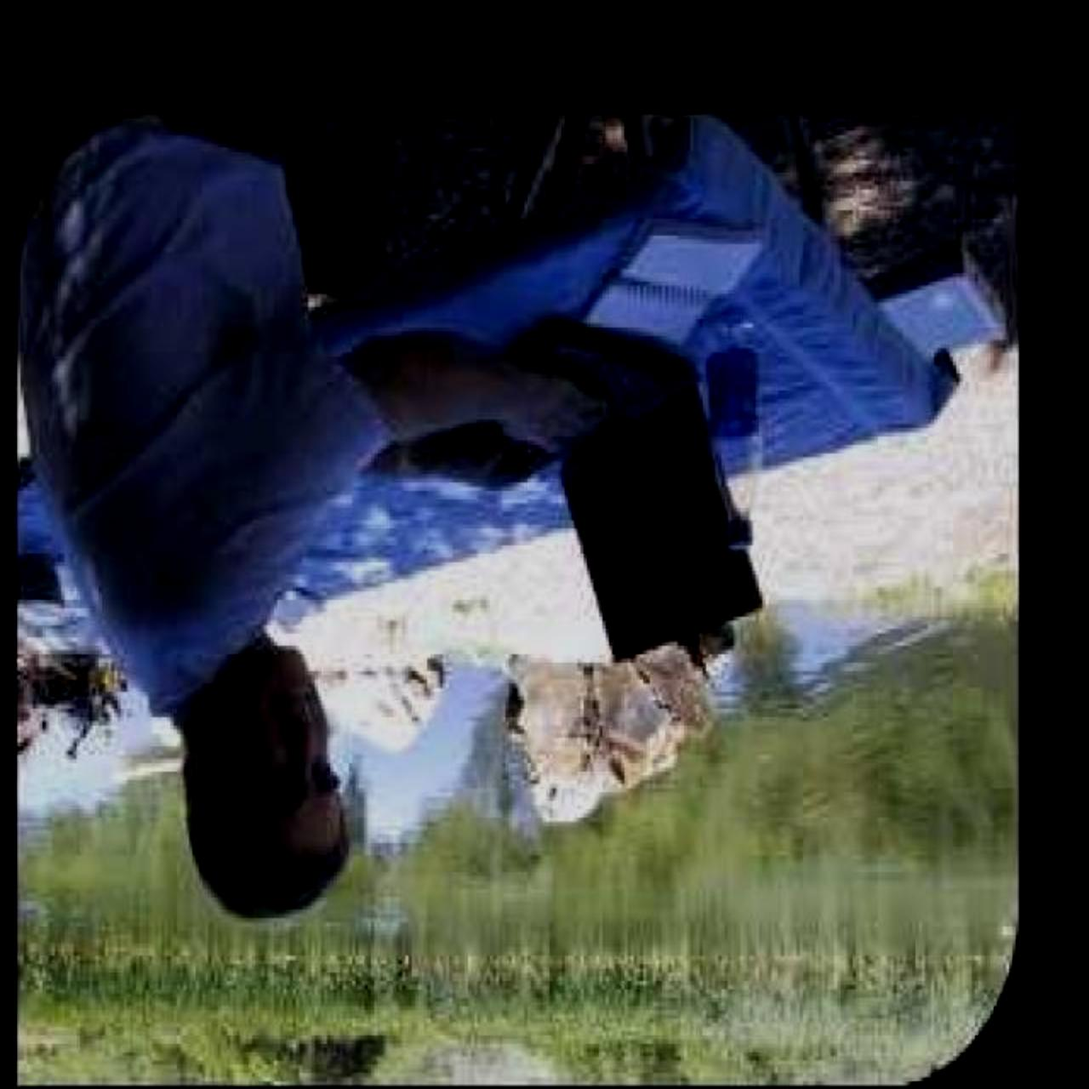laptop: (507, 310, 766, 691)
